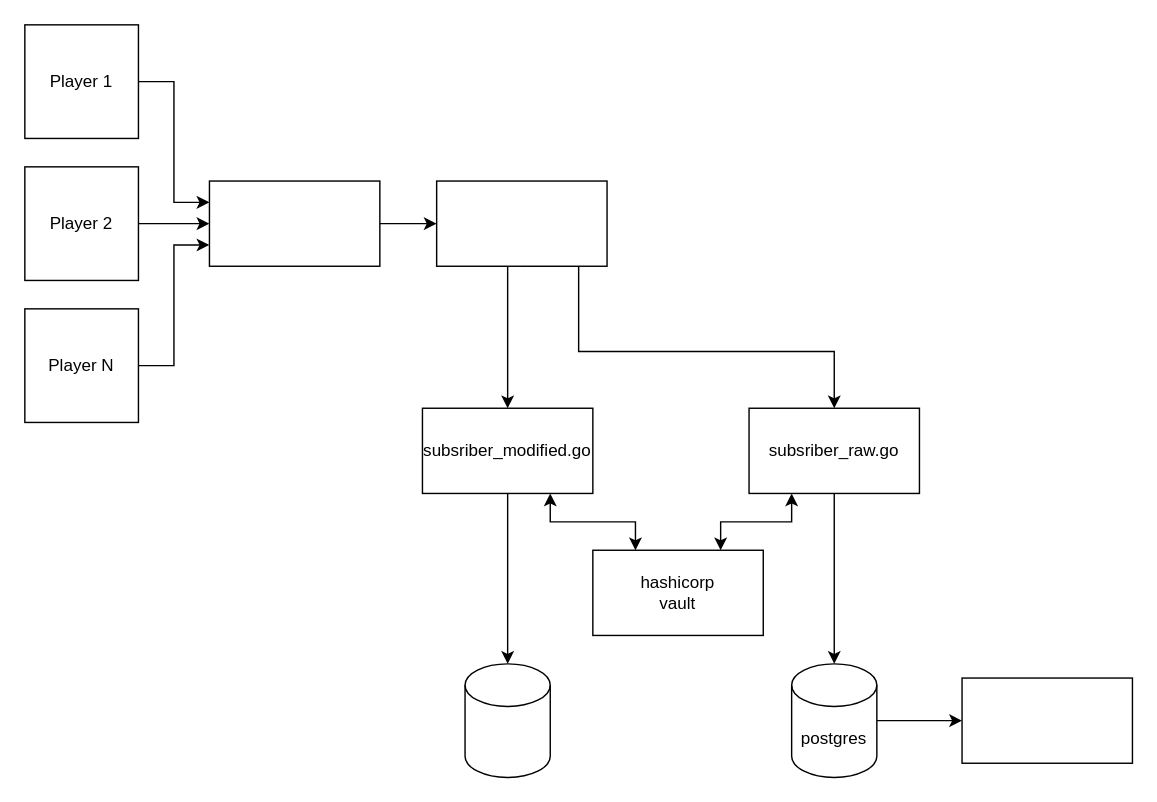
Some shapes in this 1157 by 802 pixel diagram are drawn without their labels. Here are the shapes that lost their labels. From the top down, the box of each, then its label:
(208, 180, 380, 266): publisher.go
(435, 180, 607, 266): NATS
(464, 662, 550, 777): mongo
(961, 677, 1132, 763): grafana
